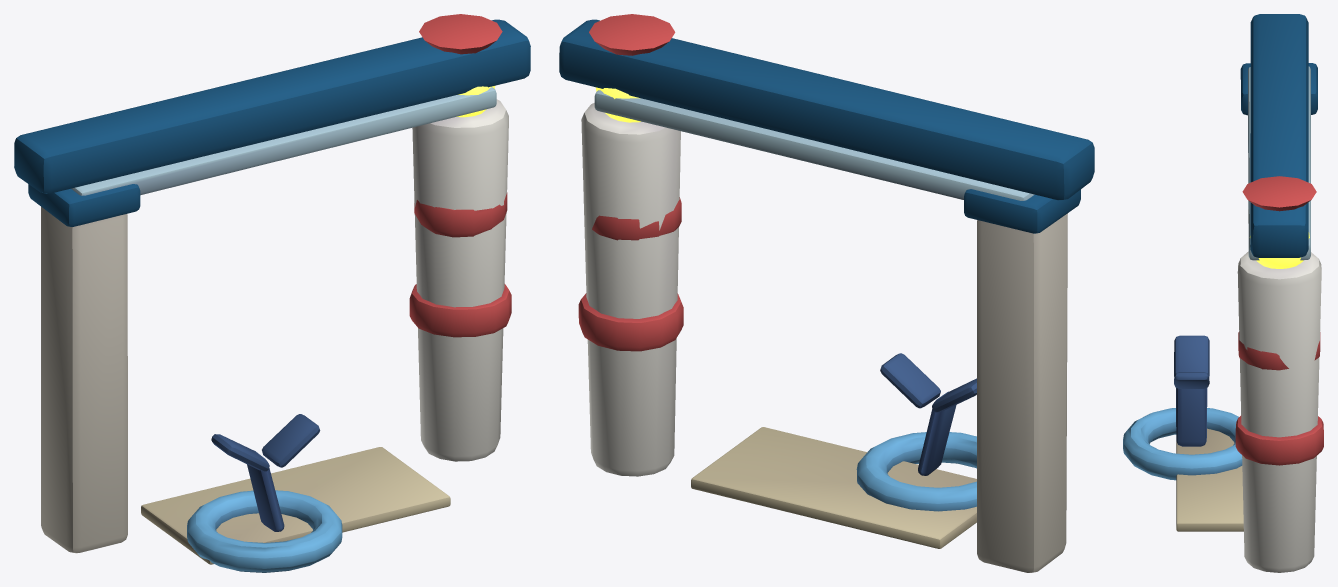
The picture shows the model from 3 angles, left to right: view 1: azimuth 30°, elevation 25°; view 2: azimuth 150°, elevation 25°; view 3: azimuth 270°, elevation 25°; orthographic projection. The views are drawn at different scales.
Visible parts, largest first — view 1: gate_2863f6e3; view 2: gate_2863f6e3; view 3: gate_2863f6e3.
Boxes of the visible parts, x1,y1,x2,y2 form: gate_2863f6e3: (14,14,530,572); gate_2863f6e3: (559,14,1094,572); gate_2863f6e3: (1123,14,1323,572).
Size of the model in its own units: 4.89 by 3.96 by 1.94.
